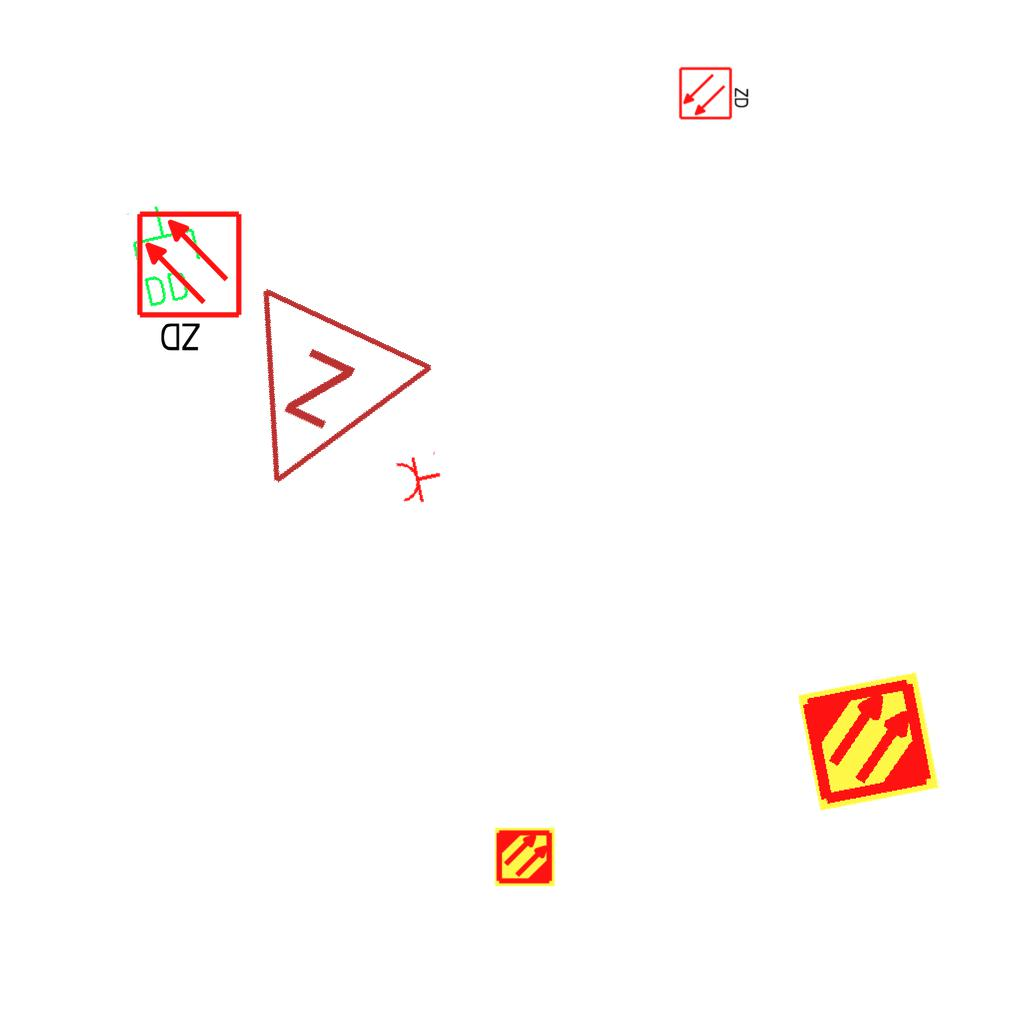ASR_Ansaugrauchmelder: (795, 668, 942, 815), (494, 826, 556, 888)
Datenanschluss_zweifach: (121, 196, 212, 313)
Schukosteckdose_einfach: (393, 449, 446, 507)
ZD_Melder_in_Zwischendecke_mit_Revisionsoeffnung_mind_40_x_40_cm: (134, 209, 248, 358), (678, 64, 752, 121)
Zimmersignalleuchte: (183, 272, 447, 538)
